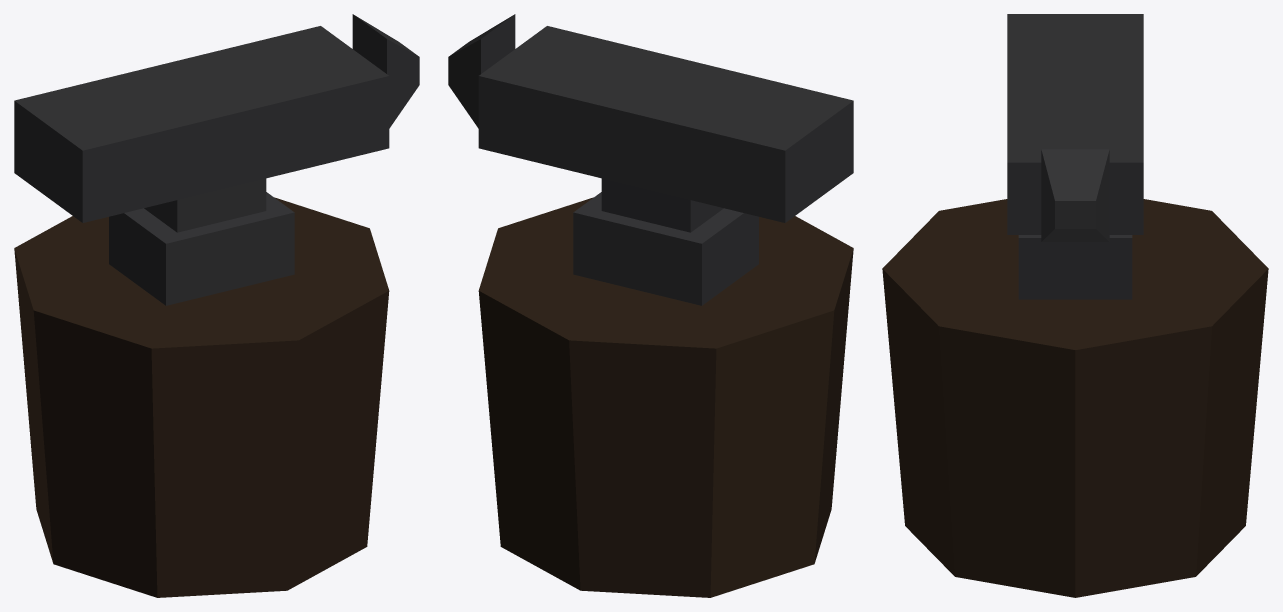
Rendered from anvil.glb.
The picture shows the model from 3 angles, left to right: view 1: azimuth 30°, elevation 25°; view 2: azimuth 150°, elevation 25°; view 3: azimuth 270°, elevation 25°; orthographic projection.
Visible parts, largest first — view 1: Anvil; view 2: Anvil; view 3: Anvil.
Boxes of the visible parts, bbox=[...] form: Anvil: bbox=[14, 14, 419, 597]; Anvil: bbox=[448, 14, 853, 597]; Anvil: bbox=[882, 14, 1268, 597].
Size of the model in its own units: 0.76 by 0.89 by 0.68.
